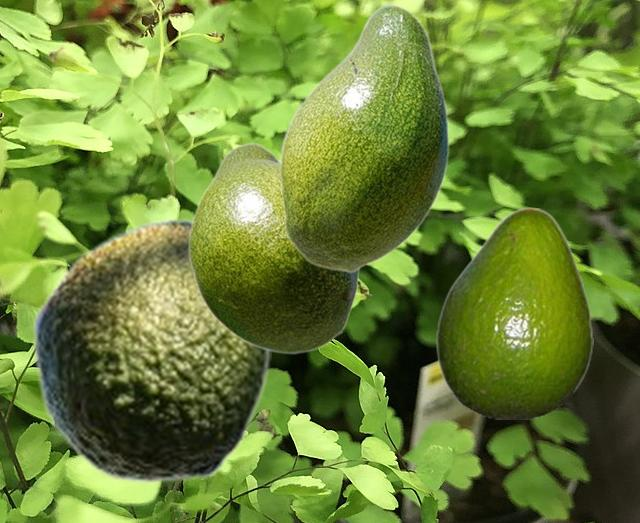avocado: (31, 218, 270, 482), (279, 3, 449, 272), (187, 142, 359, 354), (435, 206, 592, 418)
